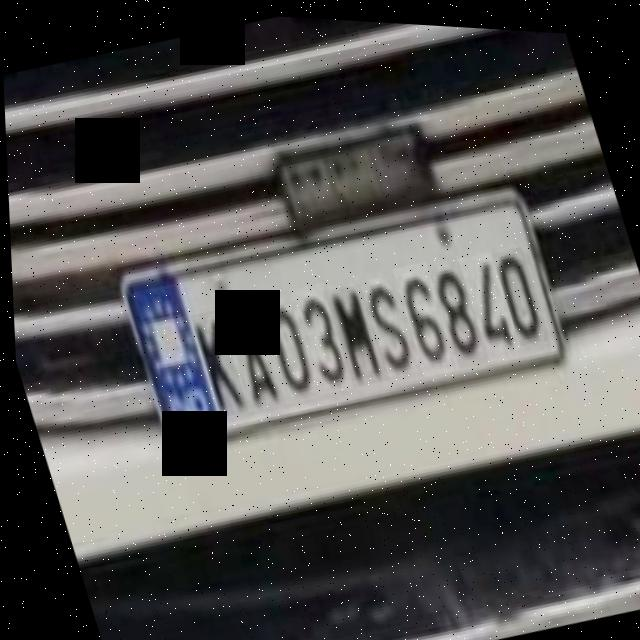0: (253, 292, 318, 400), (490, 238, 549, 342)
3: (287, 277, 352, 393)
4: (455, 244, 519, 357)
6: (389, 254, 456, 373)
8: (424, 253, 487, 365)
A: (217, 295, 280, 409)
K: (187, 305, 247, 416)
M: (321, 278, 387, 384)
S: (351, 260, 417, 375)
